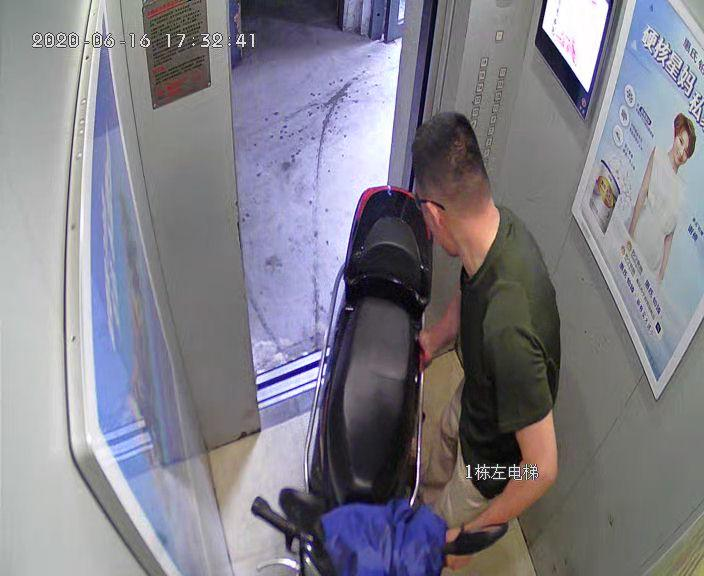Electric-bicycle: (250, 179, 506, 575)
